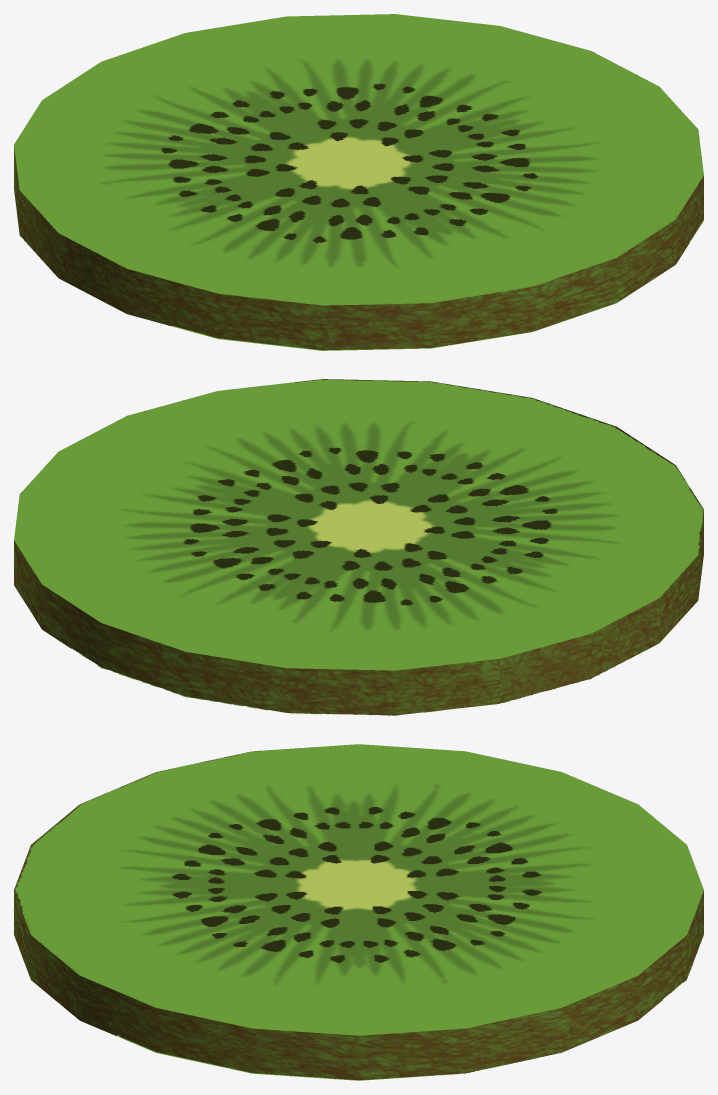
File: kiwi 2.fbx
3 renders of one model, top to bottom at view 1: azimuth 30°, elevation 25°; view 2: azimuth 150°, elevation 25°; view 3: azimuth 270°, elevation 25°, orthographic.
Visible parts, largest first — view 1: fruit; view 2: fruit; view 3: fruit.
Part boxes in pixels (<box>): fruit: <box>14,14,703,350</box>; fruit: <box>14,379,703,715</box>; fruit: <box>14,744,703,1080</box>.
Bounding box in the file's own units: 79.96 × 5.76 × 79.96.
1 material, 1 textured.
